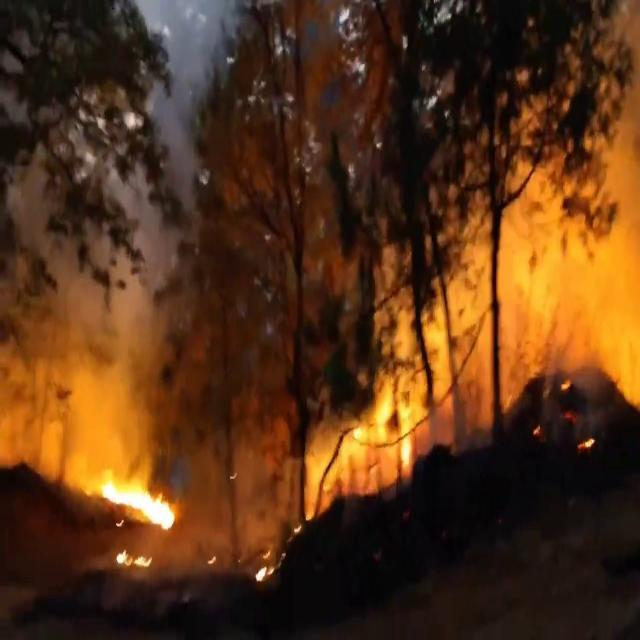Fire: (313, 365, 428, 508), (83, 454, 181, 528)
Smoke: (452, 0, 640, 410), (0, 138, 173, 458)
